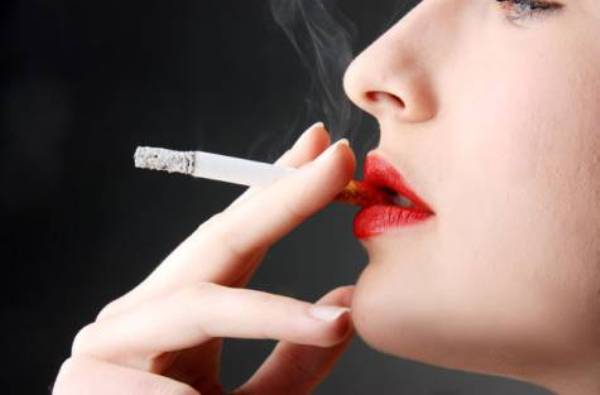cigarette: (123, 132, 388, 227)
